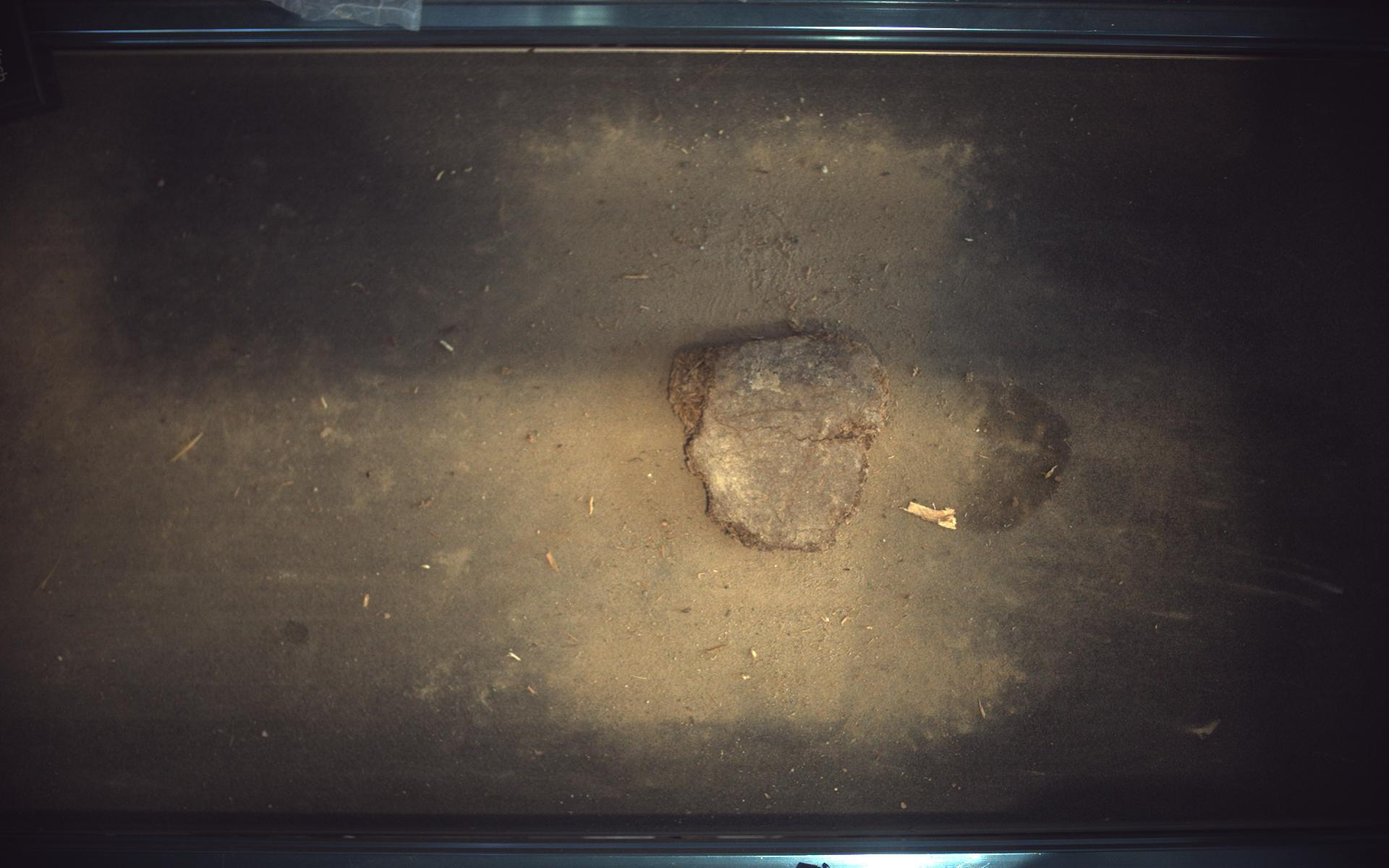wood: (670, 331, 891, 551)
